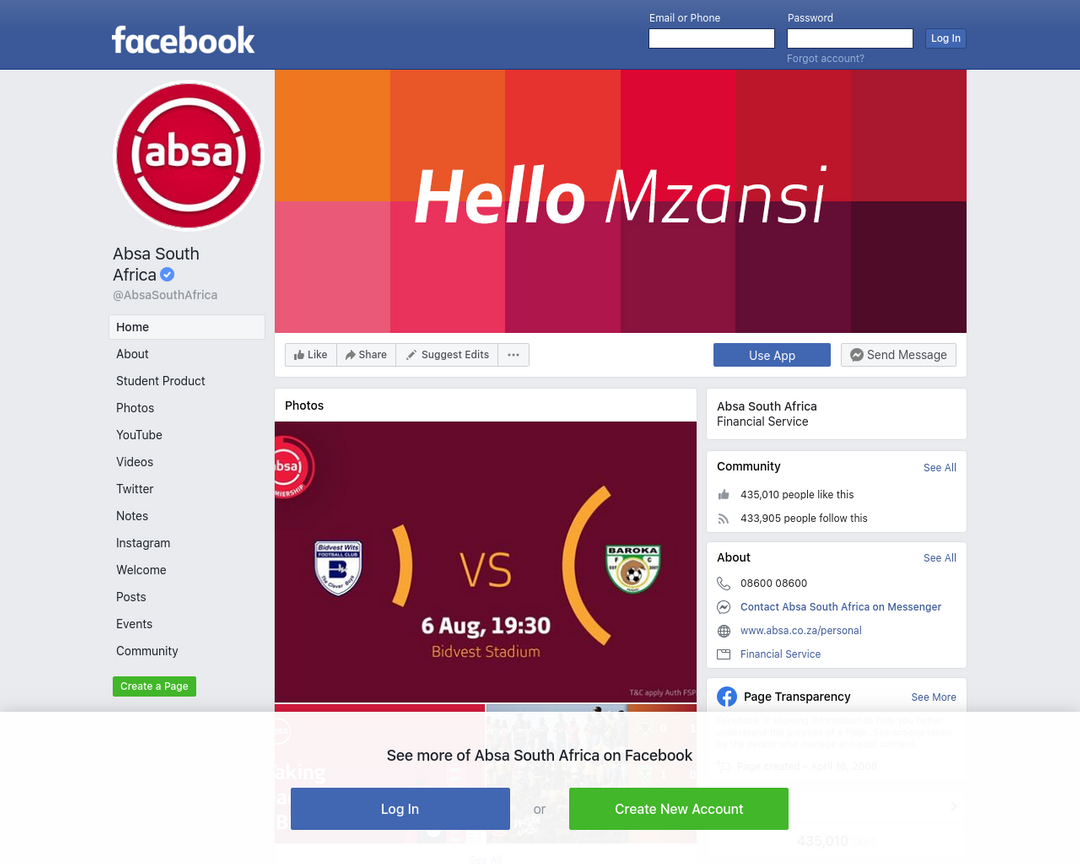ABSA: (112, 76, 263, 237), (259, 429, 322, 505)
Facebook: (110, 19, 261, 60)
